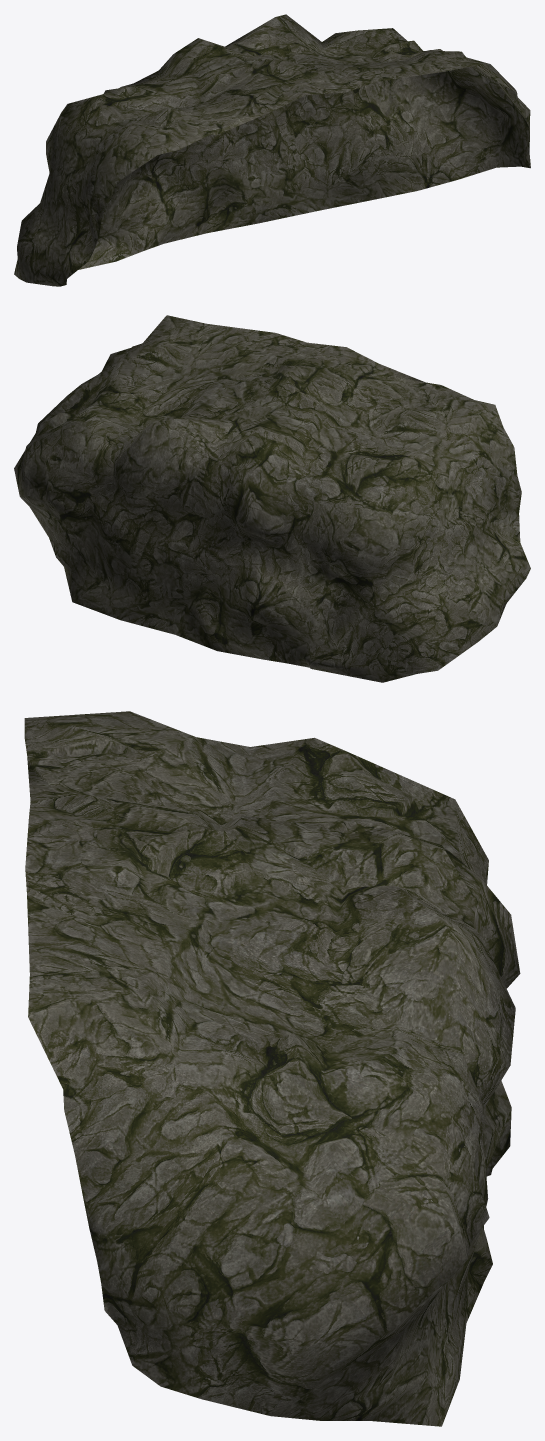
The model's file is TI_Cliff_01_h_LOD_01.fbx.
The picture shows the model from 3 angles, top to bottom: view 1: azimuth 30°, elevation 25°; view 2: azimuth 150°, elevation 25°; view 3: azimuth 270°, elevation 25°; orthographic projection. The views are drawn at different scales.
Parts seen in each view (by area): view 1: TI_Cliff_01_h_LOD_01; view 2: TI_Cliff_01_h_LOD_01; view 3: TI_Cliff_01_h_LOD_01.
Boxes of the visible parts, x1,y1,x2,y2 form: TI_Cliff_01_h_LOD_01: [14, 14, 530, 286]; TI_Cliff_01_h_LOD_01: [14, 315, 530, 682]; TI_Cliff_01_h_LOD_01: [24, 711, 520, 1426].
Bounding box in the file's own units: 12.58 × 5.69 × 5.66.
